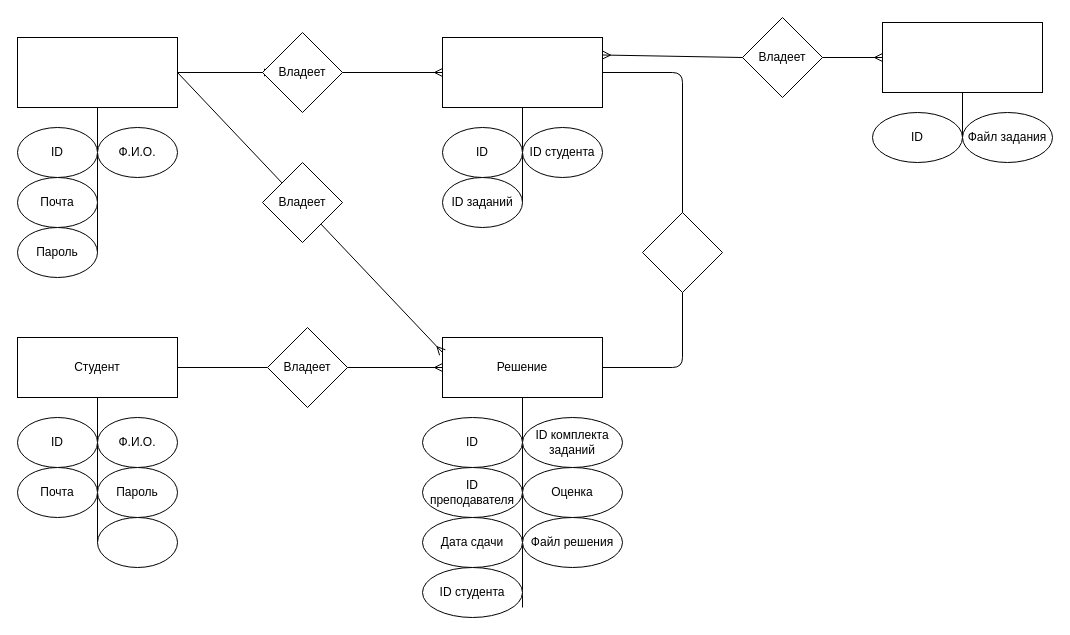
Image size: 1070x635. Some labels were removed from this diagram. The shapes that lost their labels are listed below. From the top down, each one's centre as x and y in pixels, then its label:
[97,72]: Преподаватель
[522,72]: Комплект заданий
[962,57]: Задание
[682,252]: Связаны
[137,542]: Группа
